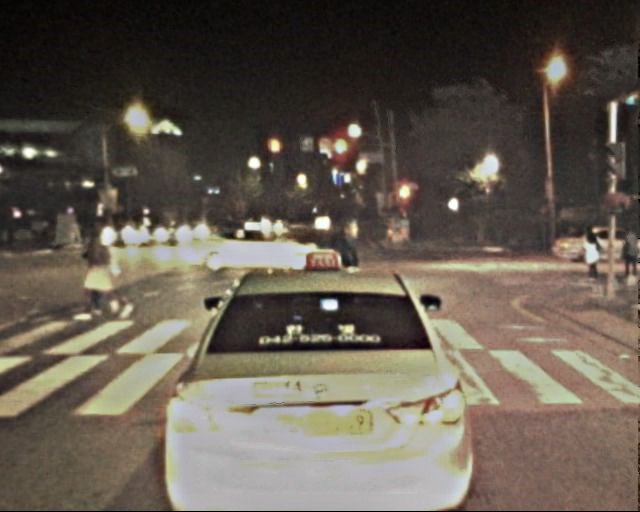person: (321, 216, 374, 345), (78, 221, 121, 320), (578, 226, 604, 290), (617, 228, 640, 288)
